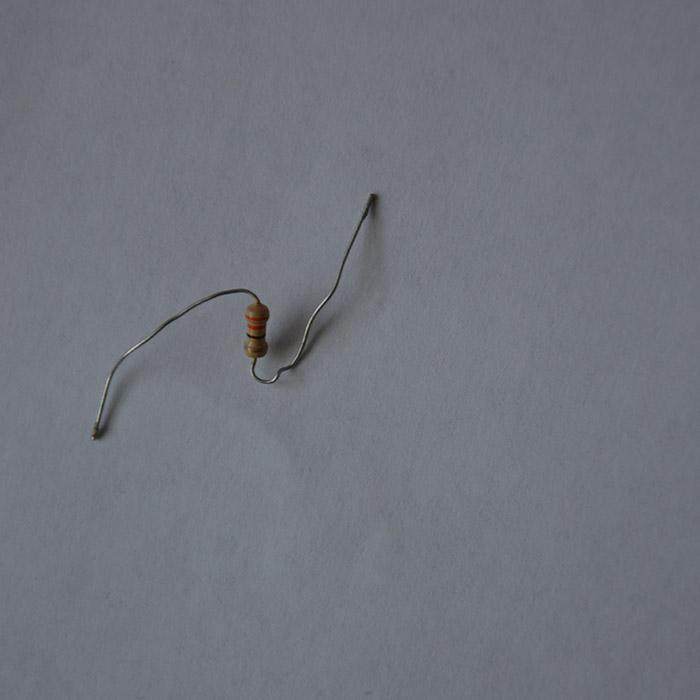resistor: (242, 299, 269, 358)
